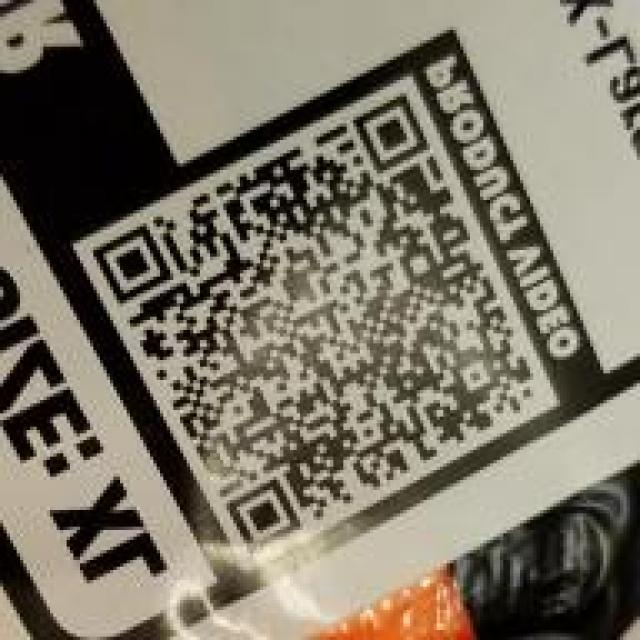qr_code: (95, 94, 538, 555)
